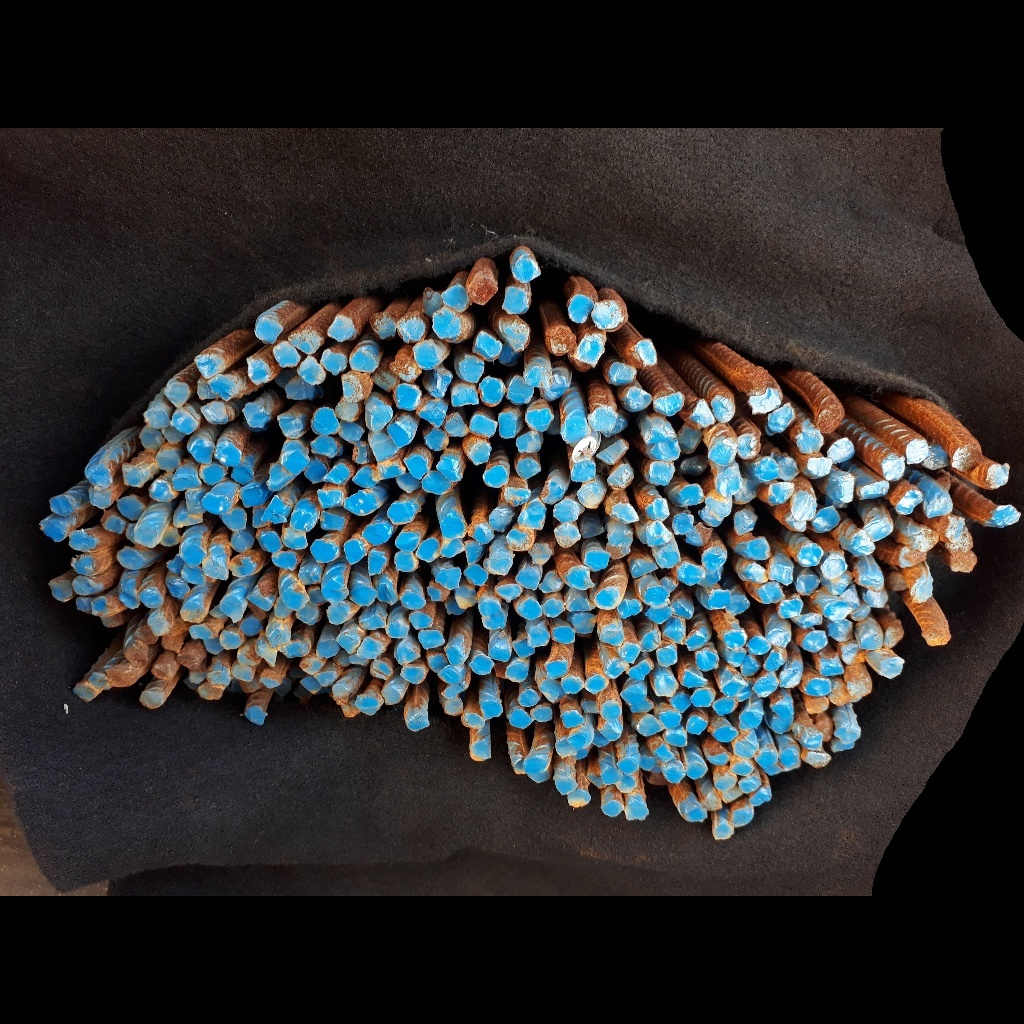dipstick: (496, 316, 532, 352), (950, 440, 983, 475), (365, 393, 391, 431), (591, 300, 623, 330), (397, 312, 427, 344), (341, 371, 371, 403), (288, 325, 321, 354), (575, 335, 605, 366), (824, 473, 854, 504), (389, 354, 422, 382), (389, 413, 416, 447), (432, 308, 462, 338), (714, 466, 744, 496), (517, 501, 547, 531), (748, 385, 779, 414), (192, 352, 225, 379), (417, 397, 445, 428), (644, 460, 676, 487), (769, 552, 795, 585), (629, 338, 658, 367), (261, 495, 290, 524), (320, 346, 350, 374), (890, 488, 920, 516), (366, 311, 397, 338), (208, 374, 239, 401), (371, 360, 397, 392), (487, 502, 513, 534), (115, 495, 147, 521), (645, 438, 682, 460), (506, 375, 534, 404), (813, 504, 841, 533), (641, 493, 669, 522), (312, 407, 341, 435), (267, 462, 295, 491), (567, 293, 594, 323), (474, 329, 500, 360), (768, 401, 794, 432), (792, 488, 817, 520), (597, 440, 629, 465), (526, 405, 554, 433), (437, 453, 465, 481), (457, 354, 484, 383), (588, 406, 615, 435), (412, 341, 439, 370), (829, 435, 856, 464), (577, 481, 604, 510), (372, 458, 406, 481), (468, 278, 498, 304), (441, 285, 471, 311), (298, 354, 324, 384), (463, 436, 489, 466), (677, 421, 703, 451), (630, 554, 660, 580), (344, 491, 375, 516), (283, 375, 315, 399), (502, 285, 529, 313), (548, 328, 576, 355), (736, 430, 763, 458), (733, 507, 760, 535), (607, 463, 635, 490), (328, 316, 357, 342), (254, 316, 283, 342), (709, 437, 735, 466), (368, 434, 397, 460), (40, 516, 69, 542), (246, 355, 271, 385), (553, 523, 583, 548), (177, 641, 202, 671), (495, 409, 519, 440), (737, 560, 768, 584), (675, 560, 706, 584), (663, 615, 687, 646), (561, 416, 588, 443), (949, 548, 976, 575), (773, 455, 800, 482), (218, 596, 245, 623), (879, 452, 905, 480), (646, 521, 674, 547), (770, 702, 792, 735), (539, 374, 568, 399), (925, 441, 950, 470), (941, 513, 966, 542), (701, 543, 726, 572), (363, 521, 392, 546), (926, 491, 956, 515), (567, 566, 597, 590), (148, 479, 178, 503), (420, 472, 454, 493), (739, 537, 770, 560), (552, 498, 583, 521), (606, 363, 638, 385), (825, 572, 857, 594), (894, 545, 931, 564), (272, 341, 299, 367), (514, 563, 540, 590), (471, 519, 498, 545), (86, 462, 113, 488), (469, 413, 497, 438), (796, 429, 824, 454), (857, 480, 892, 500), (865, 516, 893, 541), (751, 457, 779, 482), (244, 403, 269, 431), (49, 577, 77, 602), (691, 399, 715, 428), (451, 385, 480, 409), (797, 543, 826, 567), (512, 257, 542, 280), (480, 376, 503, 406), (310, 435, 340, 458), (202, 557, 232, 580), (442, 412, 468, 438), (335, 396, 361, 422), (222, 506, 248, 532), (350, 348, 377, 373), (513, 429, 540, 454), (753, 674, 780, 699), (733, 731, 758, 758), (277, 414, 304, 439), (216, 442, 243, 467), (394, 638, 421, 663), (524, 364, 552, 388), (623, 387, 651, 411), (678, 456, 710, 477), (794, 572, 822, 596), (282, 451, 310, 475), (171, 410, 199, 434), (903, 435, 926, 464), (821, 555, 850, 578), (703, 494, 733, 516), (676, 484, 706, 506), (756, 581, 786, 603), (256, 638, 278, 668), (775, 596, 806, 617), (815, 655, 846, 676), (540, 479, 566, 504), (424, 426, 448, 453), (481, 464, 508, 488), (322, 581, 349, 605), (133, 526, 160, 550), (818, 407, 841, 435), (911, 527, 939, 550), (766, 482, 794, 505), (878, 656, 906, 679), (636, 713, 664, 736), (507, 528, 535, 551), (310, 540, 338, 563), (281, 588, 309, 611), (886, 620, 906, 652), (172, 507, 204, 527), (565, 589, 594, 611), (926, 625, 956, 646), (738, 703, 763, 728), (527, 542, 552, 567), (140, 586, 165, 611), (657, 392, 683, 416), (428, 371, 452, 397), (911, 578, 935, 604), (643, 584, 669, 608), (201, 400, 227, 424), (100, 510, 126, 534), (180, 600, 206, 624), (711, 395, 734, 422), (515, 456, 542, 479), (862, 587, 889, 610), (846, 674, 873, 697), (694, 649, 721, 672), (653, 673, 680, 696), (539, 571, 566, 594), (240, 486, 267, 509), (805, 454, 833, 476), (67, 529, 95, 551), (856, 569, 885, 590), (827, 620, 856, 641), (822, 600, 851, 621), (800, 629, 829, 650), (395, 384, 419, 409), (849, 532, 879, 552), (672, 597, 697, 621), (352, 464, 376, 489), (316, 489, 346, 509), (202, 494, 232, 514), (124, 644, 149, 668), (595, 587, 621, 610), (337, 419, 363, 442), (417, 538, 440, 564), (70, 553, 96, 576), (166, 576, 192, 599), (620, 681, 647, 703), (199, 463, 226, 485), (298, 564, 325, 586), (49, 494, 76, 516), (644, 604, 675, 623), (367, 549, 388, 577), (185, 488, 206, 516), (422, 288, 442, 317), (728, 806, 757, 826), (661, 728, 690, 748), (625, 798, 649, 822), (258, 530, 282, 554), (147, 612, 171, 636), (512, 634, 535, 659), (166, 383, 191, 406), (387, 502, 412, 525), (290, 509, 315, 532), (437, 566, 462, 589), (249, 588, 274, 611), (117, 546, 142, 569), (140, 686, 165, 709), (735, 479, 757, 505), (319, 510, 345, 532), (181, 563, 207, 585), (355, 694, 381, 716), (673, 510, 694, 537), (682, 667, 709, 688), (493, 581, 520, 602), (281, 528, 308, 549), (143, 409, 171, 429), (407, 455, 431, 478), (860, 629, 884, 652), (663, 761, 686, 785), (197, 376, 220, 400), (87, 485, 111, 508), (296, 603, 320, 626), (405, 708, 429, 731), (455, 586, 479, 609), (483, 557, 512, 576), (198, 682, 227, 701), (778, 667, 803, 689), (571, 612, 596, 634), (541, 677, 563, 702), (712, 723, 738, 744), (400, 590, 426, 611), (229, 556, 255, 577), (479, 699, 505, 720), (626, 659, 653, 679), (566, 788, 593, 808), (272, 552, 299, 572), (417, 630, 444, 650), (438, 665, 468, 683), (602, 622, 625, 645), (232, 462, 255, 485), (525, 365, 549, 387), (722, 628, 746, 650), (747, 635, 771, 657), (517, 597, 541, 619), (509, 708, 533, 730), (230, 531, 254, 553), (645, 423, 676, 440), (442, 518, 467, 539), (425, 581, 450, 602), (689, 688, 715, 708), (683, 630, 709, 650), (616, 598, 642, 618), (598, 722, 624, 742), (584, 551, 610, 571), (344, 539, 364, 565), (408, 611, 434, 631), (612, 500, 639, 519), (607, 530, 634, 549), (155, 452, 182, 471), (824, 601, 854, 618), (656, 644, 679, 666), (670, 690, 692, 713), (588, 726, 611, 748), (305, 461, 328, 483), (352, 585, 375, 607), (377, 582, 399, 605), (160, 525, 183, 547), (327, 603, 350, 625), (370, 656, 393, 678), (713, 772, 741, 790), (684, 804, 708, 825), (350, 441, 371, 465), (394, 551, 418, 572), (181, 545, 205, 566), (657, 546, 682, 566), (708, 590, 733, 610), (581, 519, 606, 539), (542, 597, 567, 617), (324, 464, 349, 484), (140, 430, 165, 450), (801, 679, 832, 695), (707, 747, 733, 766), (71, 574, 97, 593), (134, 626, 160, 645), (172, 474, 201, 491), (441, 682, 470, 699), (805, 696, 832, 714), (399, 666, 426, 684), (780, 748, 802, 770), (561, 673, 583, 695), (396, 530, 418, 552), (119, 588, 141, 610), (571, 461, 594, 482), (842, 643, 865, 664), (659, 708, 682, 729), (267, 628, 290, 649), (357, 637, 380, 658), (723, 647, 747, 667), (465, 539, 485, 563), (237, 646, 261, 666), (243, 706, 267, 726), (604, 659, 629, 678), (441, 539, 466, 558), (73, 683, 98, 702), (805, 750, 831, 768), (161, 426, 187, 444), (315, 640, 341, 658), (278, 642, 307, 658), (659, 573, 681, 594), (730, 593, 751, 615), (703, 790, 725, 811), (584, 674, 606, 695), (122, 464, 143, 486), (687, 715, 710, 735), (562, 707, 585, 727), (556, 775, 579, 795), (528, 626, 548, 649), (506, 662, 529, 682), (483, 612, 506, 632), (396, 474, 419, 494), (106, 668, 129, 688), (471, 654, 494, 674), (189, 624, 216, 641), (713, 697, 737, 716), (718, 786, 748, 801), (794, 613, 826, 627), (522, 757, 548, 774), (300, 656, 326, 673), (683, 526, 704, 547), (720, 678, 742, 698), (480, 597, 502, 617), (162, 634, 184, 654), (219, 630, 241, 650), (338, 634, 360, 654), (187, 663, 207, 685), (749, 788, 772, 807), (600, 766, 623, 785), (630, 696, 654, 714), (529, 705, 553, 723), (426, 654, 450, 672), (462, 712, 486, 730), (258, 670, 282, 688), (835, 726, 860, 743), (231, 665, 256, 682), (715, 821, 736, 841), (641, 630, 661, 651), (620, 643, 640, 664), (546, 659, 567, 679), (166, 553, 186, 574), (382, 685, 402, 706), (767, 629, 789, 648), (554, 738, 576, 757), (240, 617, 262, 636), (739, 776, 762, 794), (599, 702, 622, 720), (488, 644, 511, 662), (315, 670, 338, 688), (339, 701, 363, 718), (332, 684, 352, 704), (617, 756, 638, 775), (151, 661, 172, 680), (471, 742, 492, 761), (816, 721, 834, 743), (686, 761, 708, 779), (301, 676, 323, 694), (387, 621, 410, 638), (360, 613, 384, 629), (803, 733, 822, 753), (757, 750, 777, 769), (617, 775, 637, 794), (518, 688, 537, 708), (445, 646, 464, 666), (443, 698, 463, 717), (731, 757, 754, 773), (569, 729, 588, 748), (195, 445, 214, 464), (89, 671, 108, 690), (209, 670, 231, 686), (655, 743, 673, 762), (851, 605, 871, 622), (638, 755, 658, 772), (602, 799, 622, 816), (101, 614, 125, 628), (445, 599, 466, 615), (91, 595, 106, 615), (240, 681, 263, 694), (582, 699, 601, 714), (76, 596, 93, 612)
